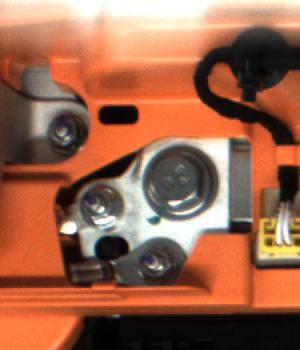nut_b: (139, 143, 222, 221)
screw_s: (82, 187, 120, 230), (137, 244, 174, 280), (46, 113, 81, 150)
